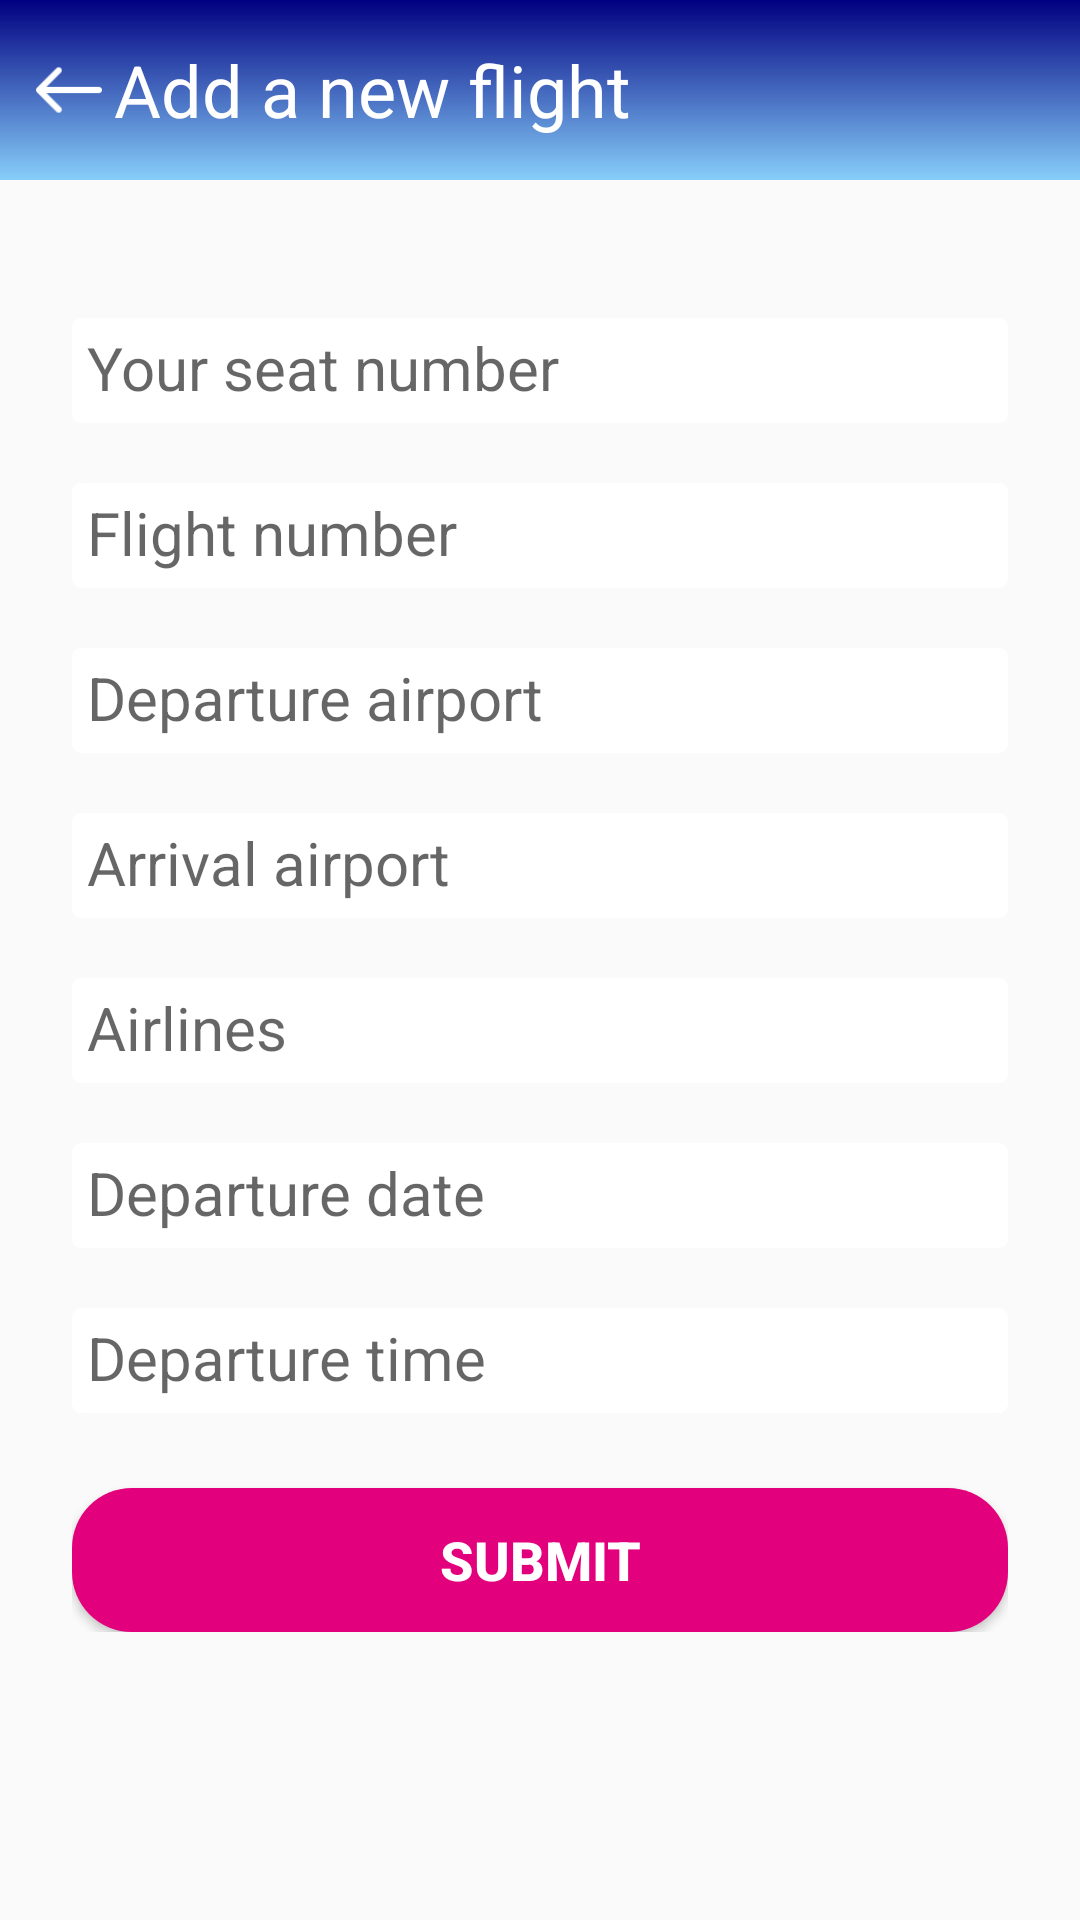

Icon click points for this 1080 x 1920 phone screenshot, format point (x, y):
back: point (69, 90)
